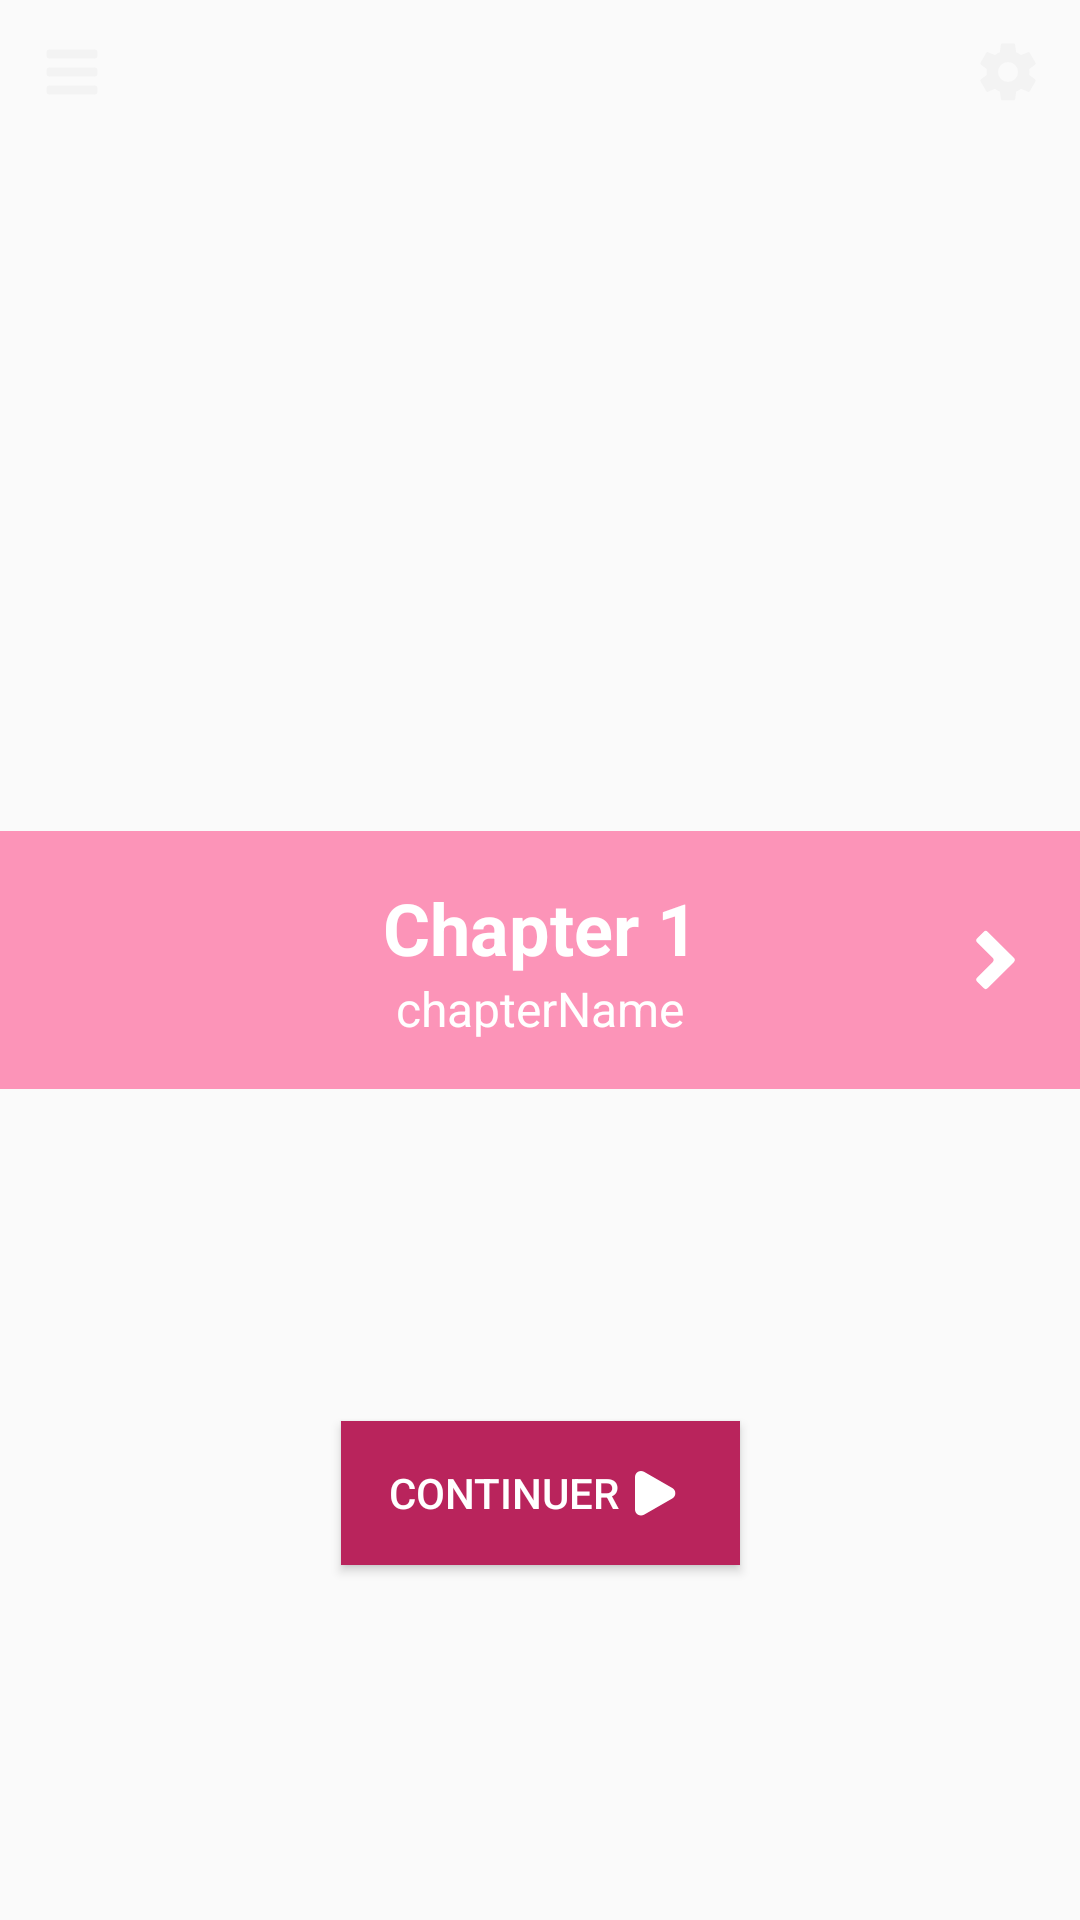

Icons on this 1080 x 1920 Android screen, each with its box as (x1, y1, x2, y2):
arrow right: (976, 931, 1015, 989)
